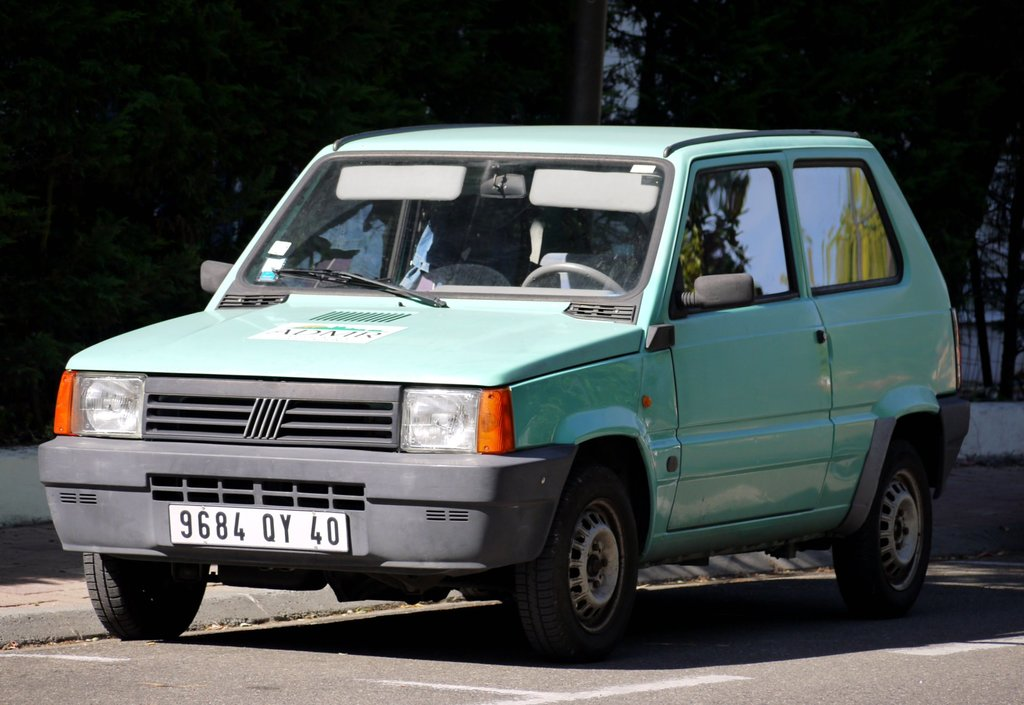cars: (39, 125, 971, 663)
